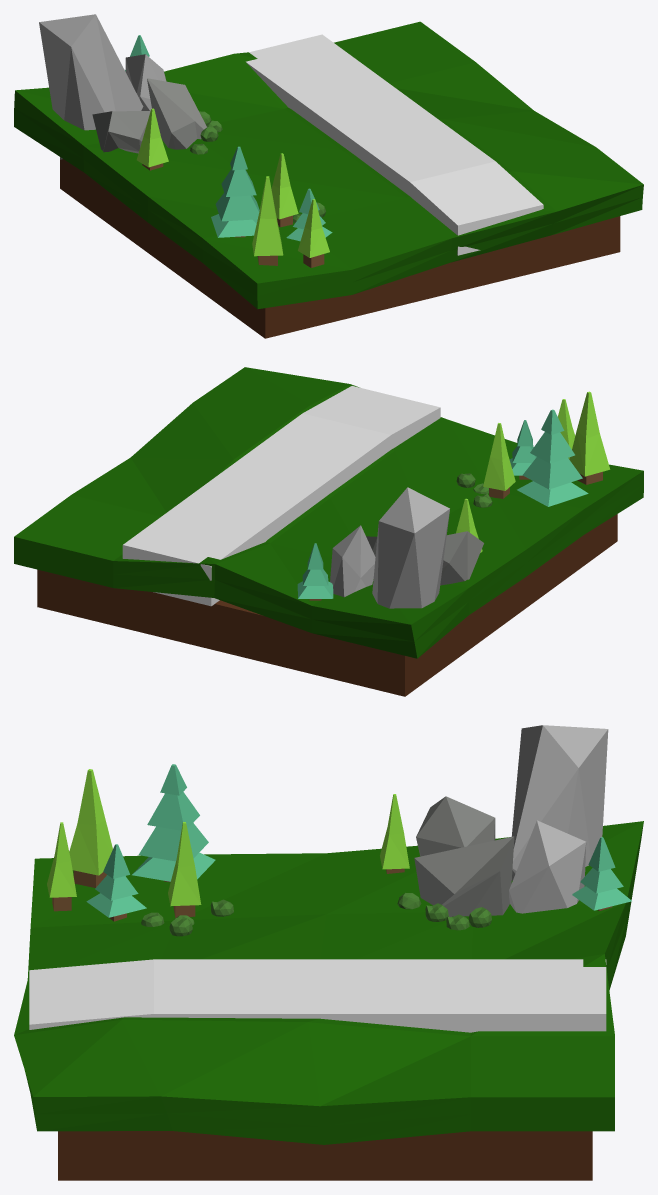
The model's file is Environment.glb.
3 renders of one model, top to bottom at view 1: azimuth 30°, elevation 25°; view 2: azimuth 150°, elevation 25°; view 3: azimuth 270°, elevation 25°, orthographic. The views are drawn at different scales.
Parts seen in each view (by area): view 1: World, Cube, Icosphere.002, Icosphere.003, Cube.002, Icosphere.001, Cube.001, Cube.005, Icosphere, Cube.004, Cube.008, Cube.003; view 2: World, Cube, Icosphere.002, Cube.002, Icosphere, Cube.001, Icosphere.001, Cube.004, Cube.009, Cube.003, Cube.005; view 3: World, Cube, Icosphere.002, Icosphere.003, Icosphere, Cube.002, Icosphere.001, Cube.001, Cube.003, Cube.009, Cube.004, Cube.005 (+1 smaller).
Part boxes in pixels (x1,y1,x2,y2): World: (14,21,643,338); Cube: (246,34,543,255); Icosphere.002: (39,14,143,159); Icosphere.003: (147,78,206,149); Cube.002: (211,146,259,237); Icosphere.001: (92,111,150,153); Cube.001: (252,176,283,265); Cube.005: (298,199,329,267); Icosphere: (125,54,166,110); Cube.004: (271,153,298,227); Cube.008: (136,108,168,170); Cube.003: (286,188,332,241); World: (14,367,643,696); Cube: (122,386,440,606); Icosphere.002: (372,487,449,608); Cube.002: (517,409,588,506); Icosphere: (330,525,375,597); Cube.001: (569,391,610,484); Icosphere.001: (440,531,483,585); Cube.004: (483,423,515,498); Cube.009: (297,543,333,600); Cube.003: (509,420,536,479); Cube.005: (558,399,575,459); World: (14,821,643,1180); Cube: (29,959,606,1032); Icosphere.002: (511,725,608,880); Icosphere.003: (414,836,514,916); Icosphere: (509,820,586,913); Cube.002: (132,764,215,882); Icosphere.001: (416,796,495,856); Cube.001: (69,769,112,887); Cube.003: (86,844,146,921); Cube.009: (572,837,631,910); Cube.004: (168,822,201,917); Cube.005: (47,822,76,911).
Bounding box in the file's own units: 21.75 × 9.59 × 22.78.
